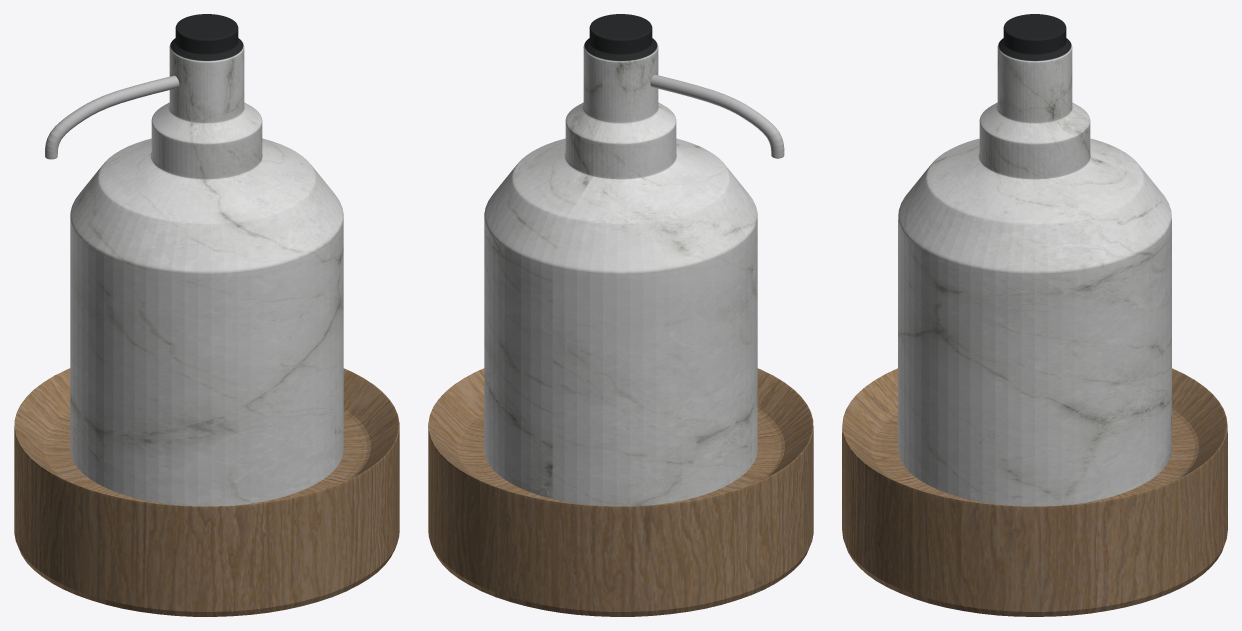
The model's file is Hand_sanitizer.FBX.
3 renders of one model, left to right at view 1: azimuth 30°, elevation 25°; view 2: azimuth 150°, elevation 25°; view 3: azimuth 270°, elevation 25°, orthographic.
Visible parts, largest first — view 1: Cylinder006; view 2: Cylinder006; view 3: Cylinder006.
Part boxes in pixels (x1,y1,x2,y2): Cylinder006: [14, 14, 399, 616]; Cylinder006: [428, 14, 813, 616]; Cylinder006: [842, 14, 1227, 616].
Size of the model in its own units: 55.73 by 81.94 by 55.73.
